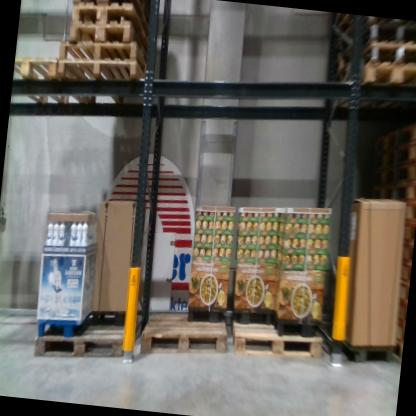pallet: (34, 295, 147, 377), (49, 48, 159, 121), (134, 295, 234, 371), (225, 305, 325, 373), (319, 38, 416, 93), (10, 50, 87, 118), (62, 20, 169, 68), (53, 33, 167, 73), (65, 0, 171, 43), (333, 19, 416, 70), (327, 57, 416, 98), (68, 0, 166, 28), (376, 135, 416, 172), (381, 114, 416, 156), (374, 174, 416, 204), (376, 150, 416, 180), (399, 237, 414, 265), (402, 221, 415, 247), (396, 298, 407, 328), (396, 278, 408, 304), (401, 258, 411, 284), (394, 318, 404, 343), (391, 341, 401, 364), (403, 203, 416, 220)
